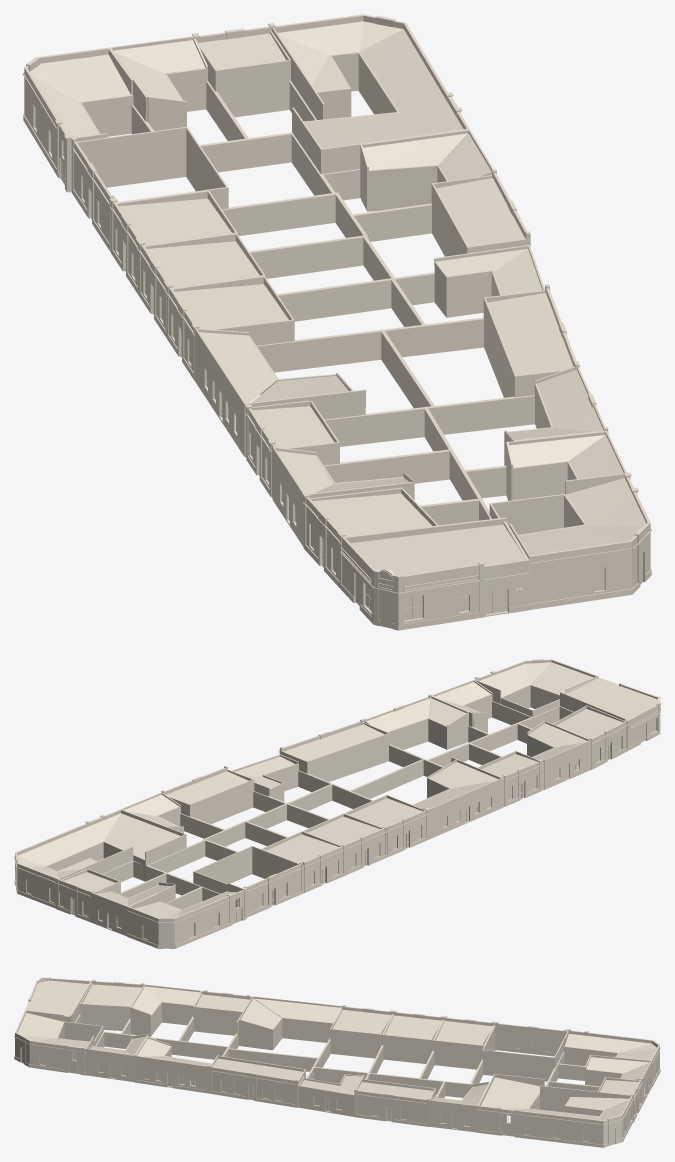
3 views of the same model, one above another, from view 1: azimuth 30°, elevation 25°; view 2: azimuth 150°, elevation 25°; view 3: azimuth 270°, elevation 25° (orthographic). The views are drawn at different scales.
Visible parts, largest first — view 1: M06 2, M 06 1; view 2: M06 2, M 06 1; view 3: M06 2, M 06 1.
Part boxes in pixels (x1=…): M06 2: x1=22, y1=14, x2=544, y2=380; M 06 1: x1=181, y1=270, x2=652, y2=630; M06 2: x1=14, y1=754, x2=429, y2=948; M 06 1: x1=262, y1=659, x2=660, y2=848; M06 2: x1=299, y1=1004, x2=660, y2=1147; M 06 1: x1=14, y1=977, x2=345, y2=1111.
Size of the model in its own units: 65.54 by 6.07 by 125.
